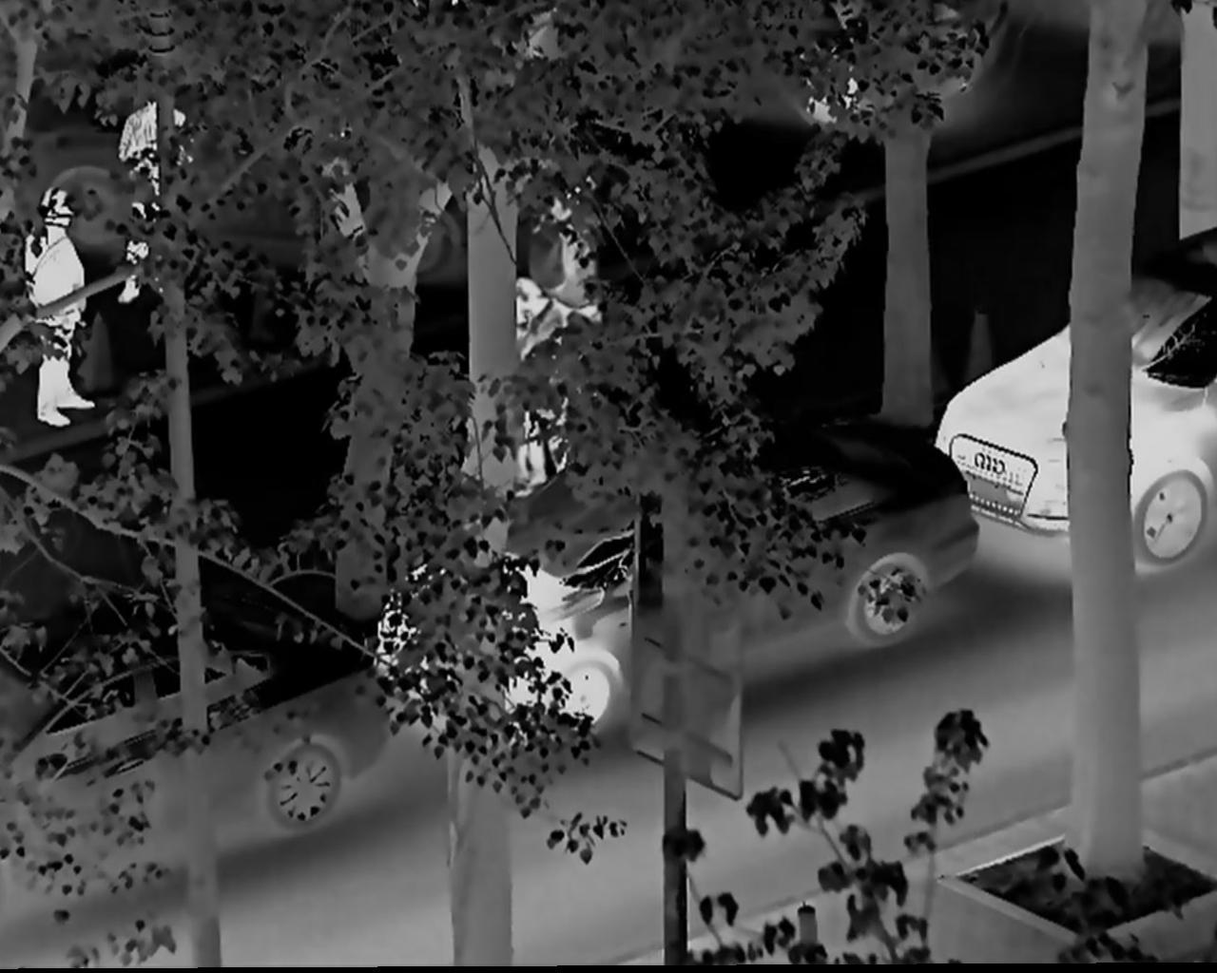person: (119, 73, 197, 301), (24, 182, 96, 424), (502, 280, 579, 481), (524, 170, 607, 347)
